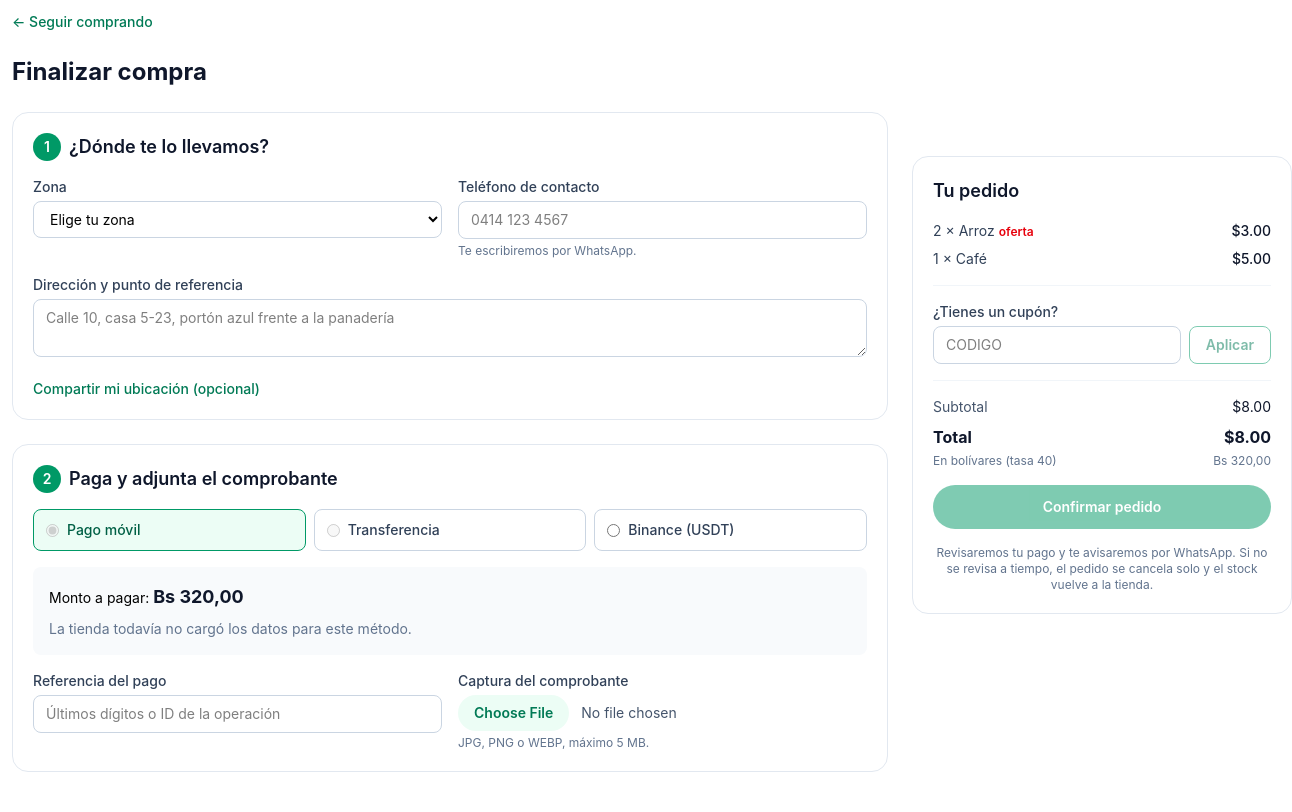
Test: Checkout: pago y envío › no permite pagar con un método sin datos configurados
Expected: the text "2 × Arroz" is shown, [933,221,1034,241]
Expected: the radio button labelled "Pago móvil" is disabled, [46,524,59,536]
Click the radio button labelled "Binance (USDT)" at (614, 530), box [607,524,620,536]
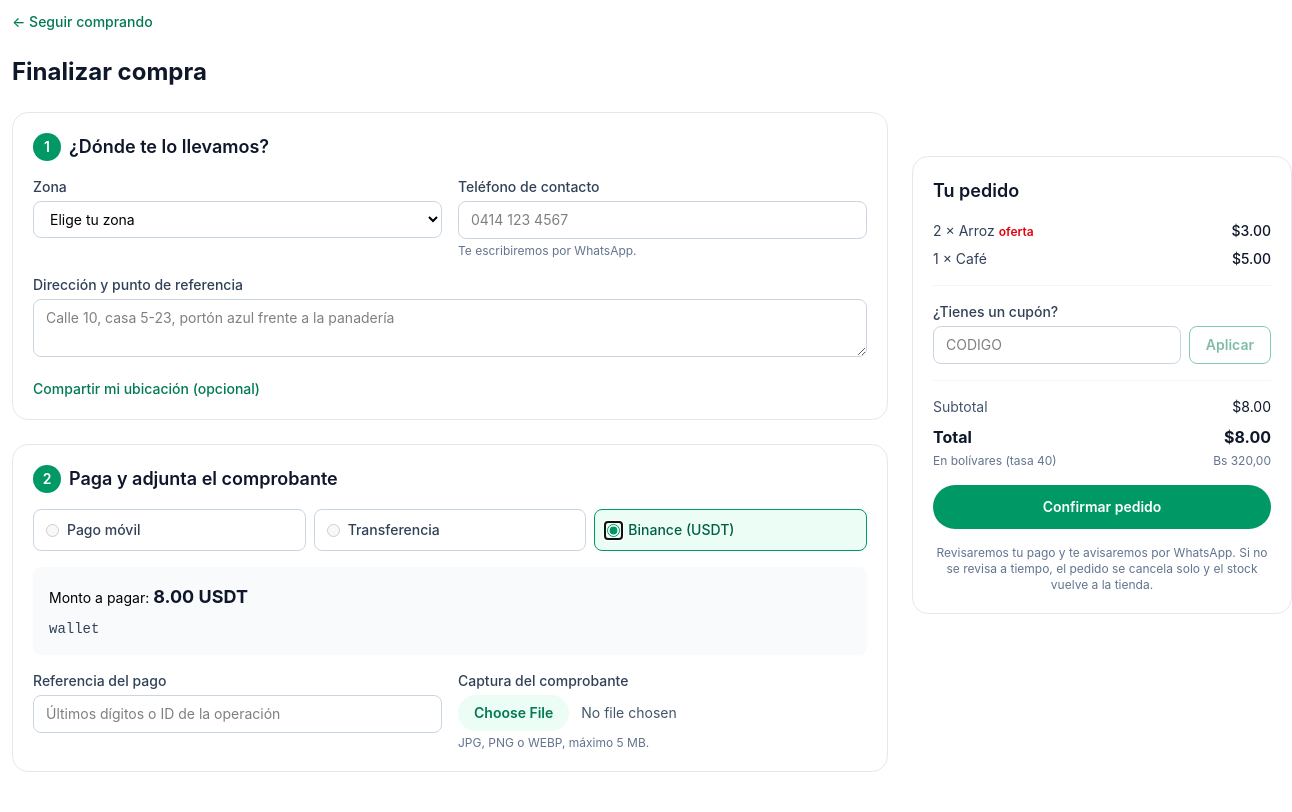
Now the button "Confirmar pedido" is enabled, box [933,485,1271,529]
